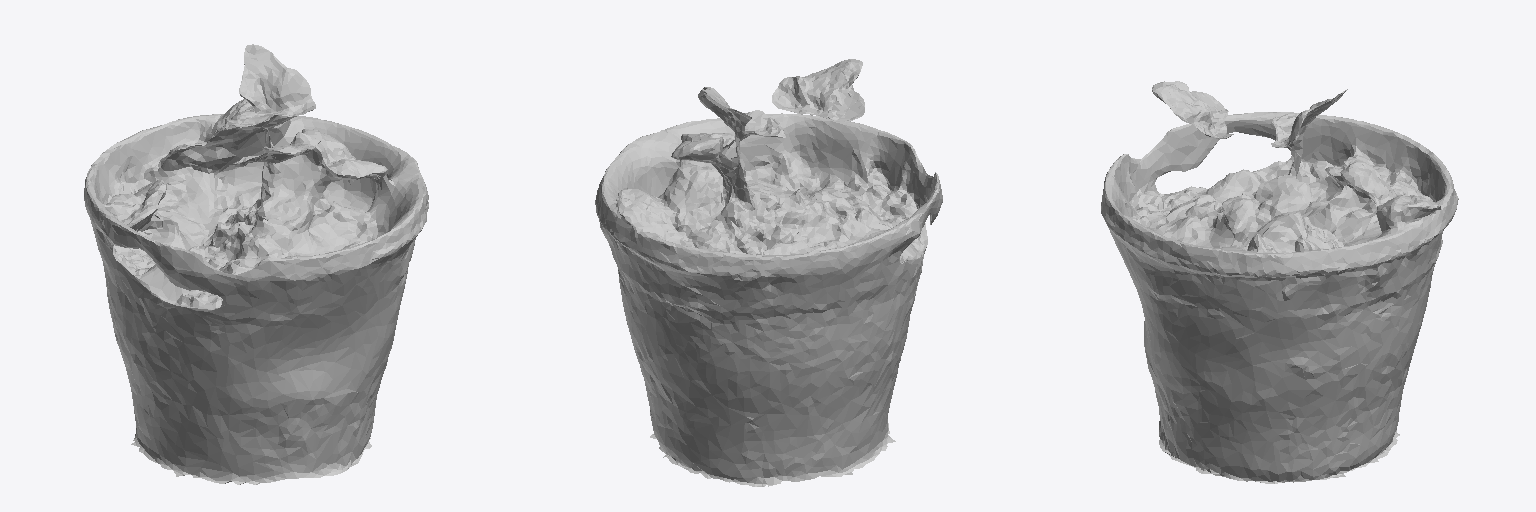
Rendered from bluepot.obj.
3 renders of one model, left to right at view 1: azimuth 30°, elevation 25°; view 2: azimuth 150°, elevation 25°; view 3: azimuth 270°, elevation 25°, orthographic.
Visible parts, largest first — view 1: textured.001; view 2: textured.001; view 3: textured.001.
Boxes of the visible parts, <box> form: textured.001: <box>84,44,428,484</box>; textured.001: <box>595,59,942,486</box>; textured.001: <box>1101,81,1458,483</box>.
Bounding box in the file's own units: 0.5755 × 0.6618 × 0.5942.